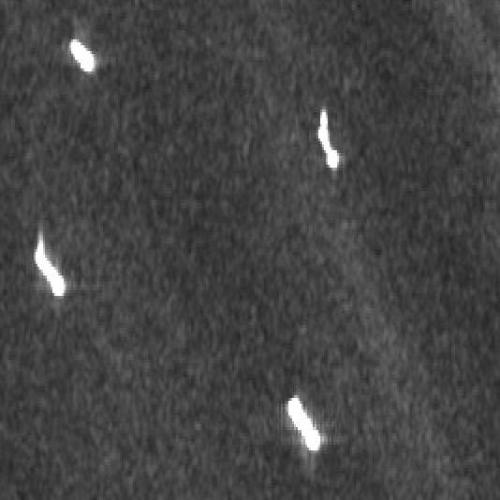ship: (287, 396, 322, 453), (34, 241, 66, 295), (317, 108, 340, 169), (70, 36, 95, 73)
